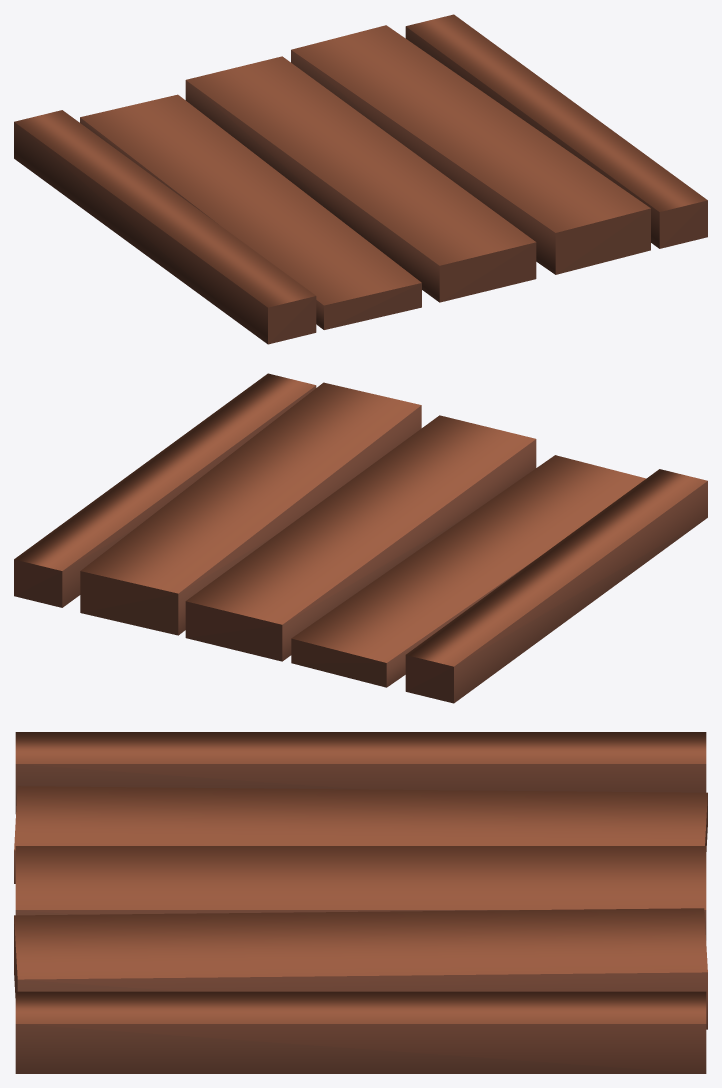
Rendered from pirate_platform.glb.
3 renders of one model, top to bottom at view 1: azimuth 30°, elevation 25°; view 2: azimuth 150°, elevation 25°; view 3: azimuth 270°, elevation 25°, orthographic. The views are drawn at different scales.
Visible parts, largest first — view 1: pirate_platform; view 2: pirate_platform; view 3: pirate_platform.
Part boxes in pixels (<box>): pirate_platform: <box>14,14,707,344</box>; pirate_platform: <box>14,373,707,703</box>; pirate_platform: <box>14,732,707,1073</box>.
Size of the model in its own units: 2.5 by 0.228 by 2.51.
